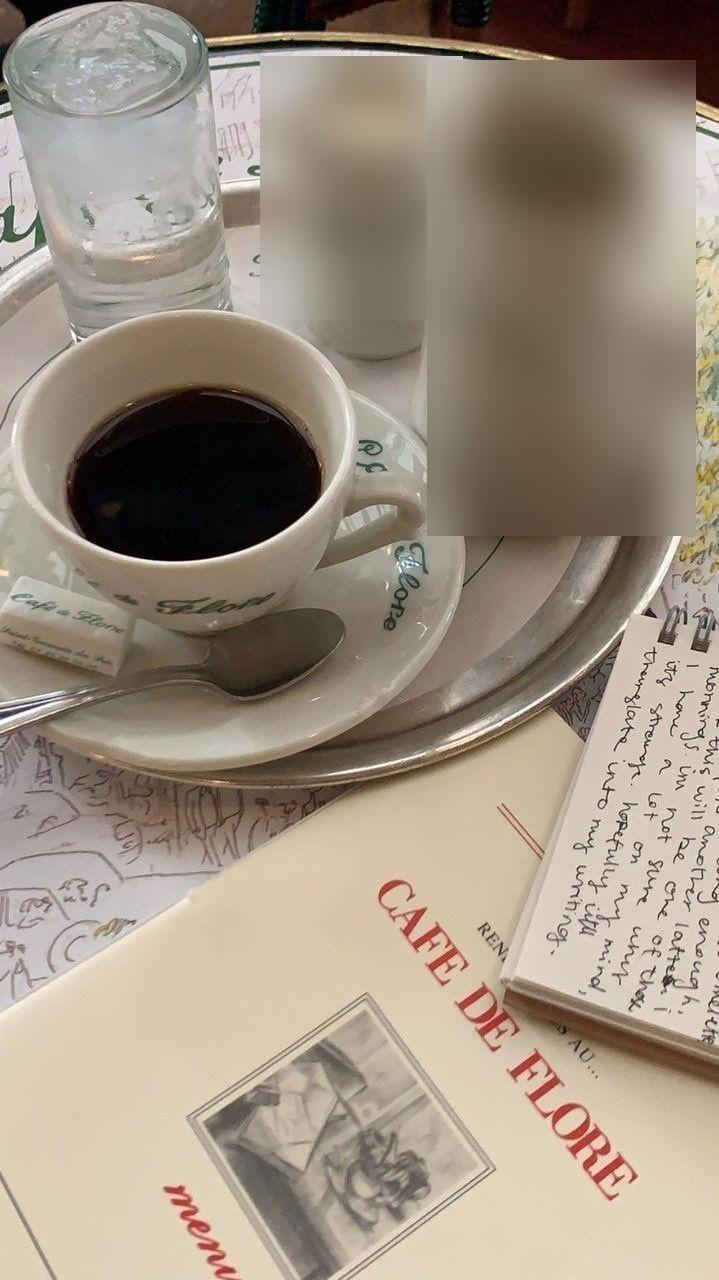cup-handle: (7, 307, 427, 638)
glass-normal: (3, 0, 233, 334)
